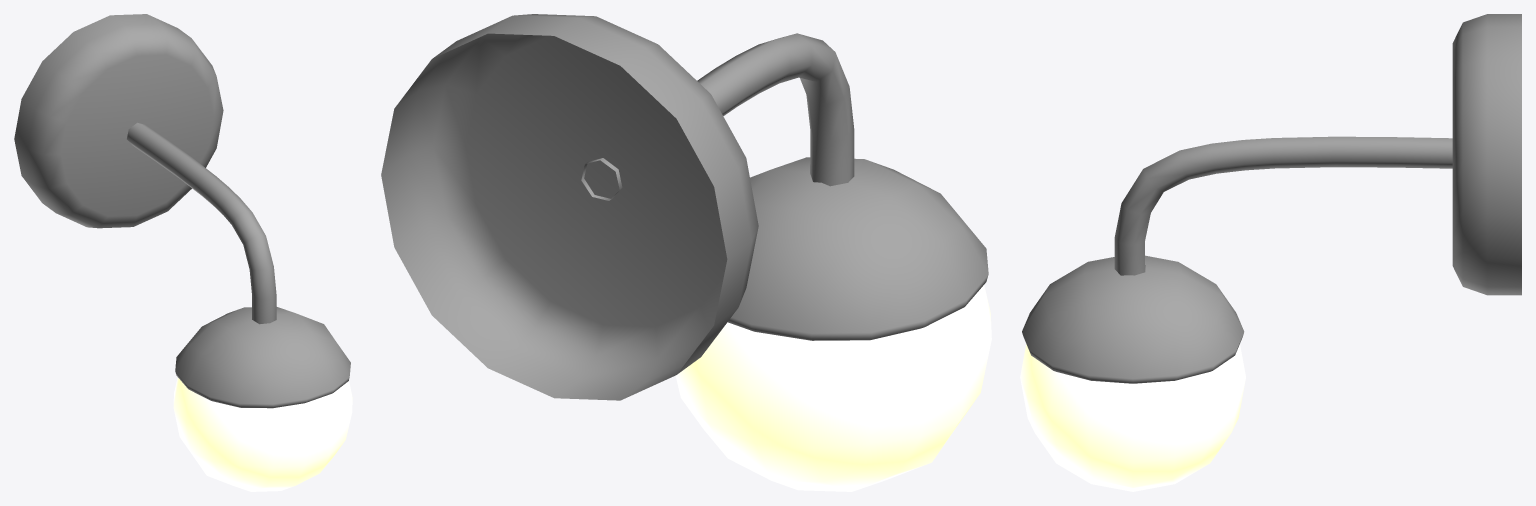
File: Lamp_3.glb
3 views of the same model, side by side, from view 1: azimuth 30°, elevation 25°; view 2: azimuth 150°, elevation 25°; view 3: azimuth 270°, elevation 25° (orthographic). The views are drawn at different scales.
Visible parts, largest first — view 1: Lamp_3; view 2: Lamp_3; view 3: Lamp_3.
Part boxes in pixels (bbox=[...]): Lamp_3: bbox=[14, 14, 352, 491]; Lamp_3: bbox=[381, 14, 991, 491]; Lamp_3: bbox=[1020, 14, 1521, 491].
Bounding box in the file's own units: 0.3771 × 0.6689 × 0.672.
Materials: 2 (1 with a texture image).
